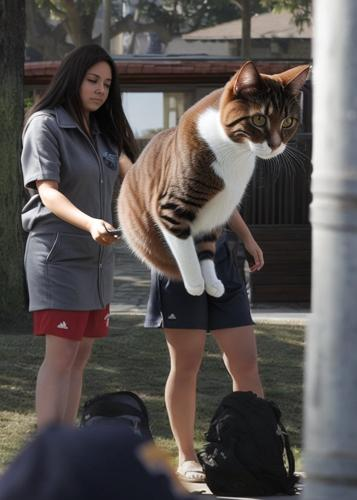cat: (23, 58, 313, 312)
person: (130, 79, 278, 484), (21, 46, 165, 428)
person/foot: (175, 458, 206, 482)
person/hand: (135, 136, 165, 159), (182, 213, 208, 234), (237, 234, 262, 247)
person/head: (56, 47, 118, 113), (167, 81, 208, 139)
